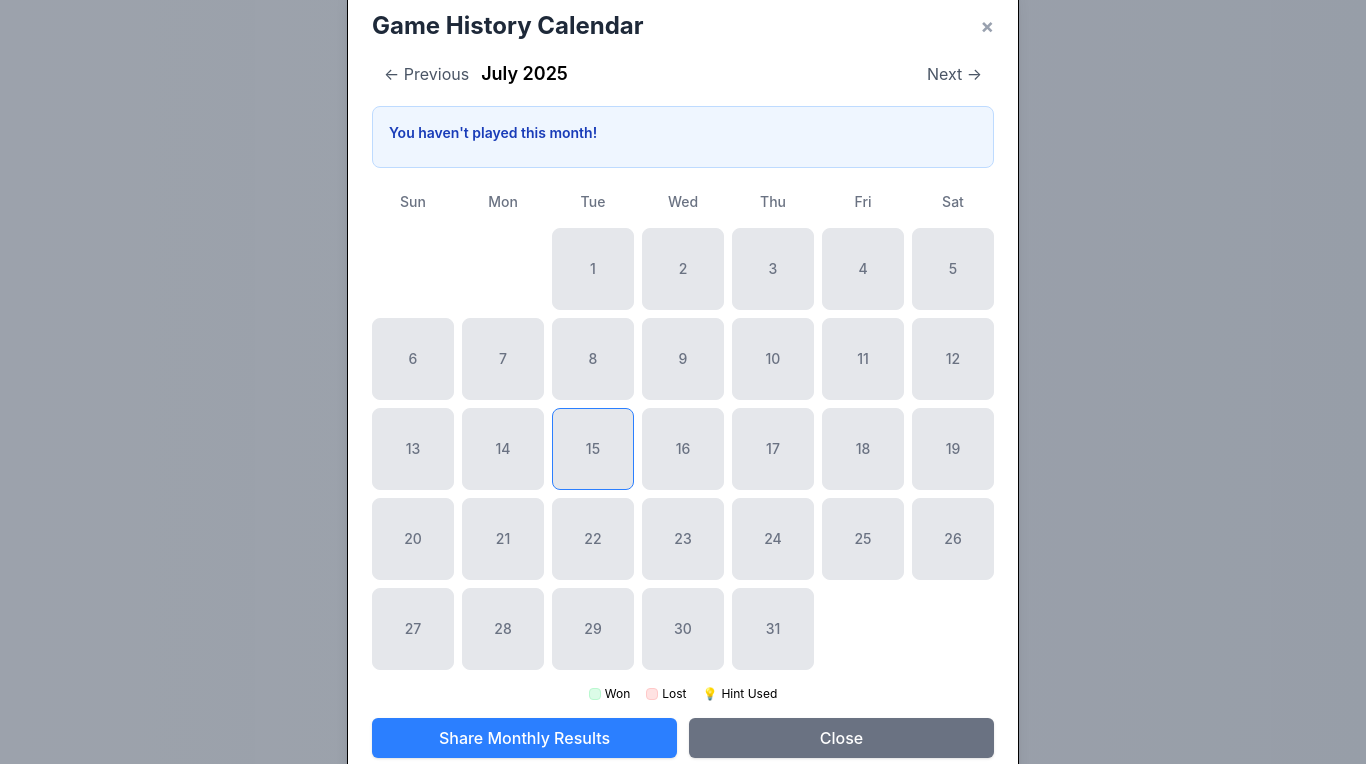
Test: GameHistoryCalendar › navigates between months
Expected: the heading "July 2025" is shown, [481, 63, 568, 84]
# Click previous month
Click the button "← Previous": [427, 74] box [372, 58, 481, 90]
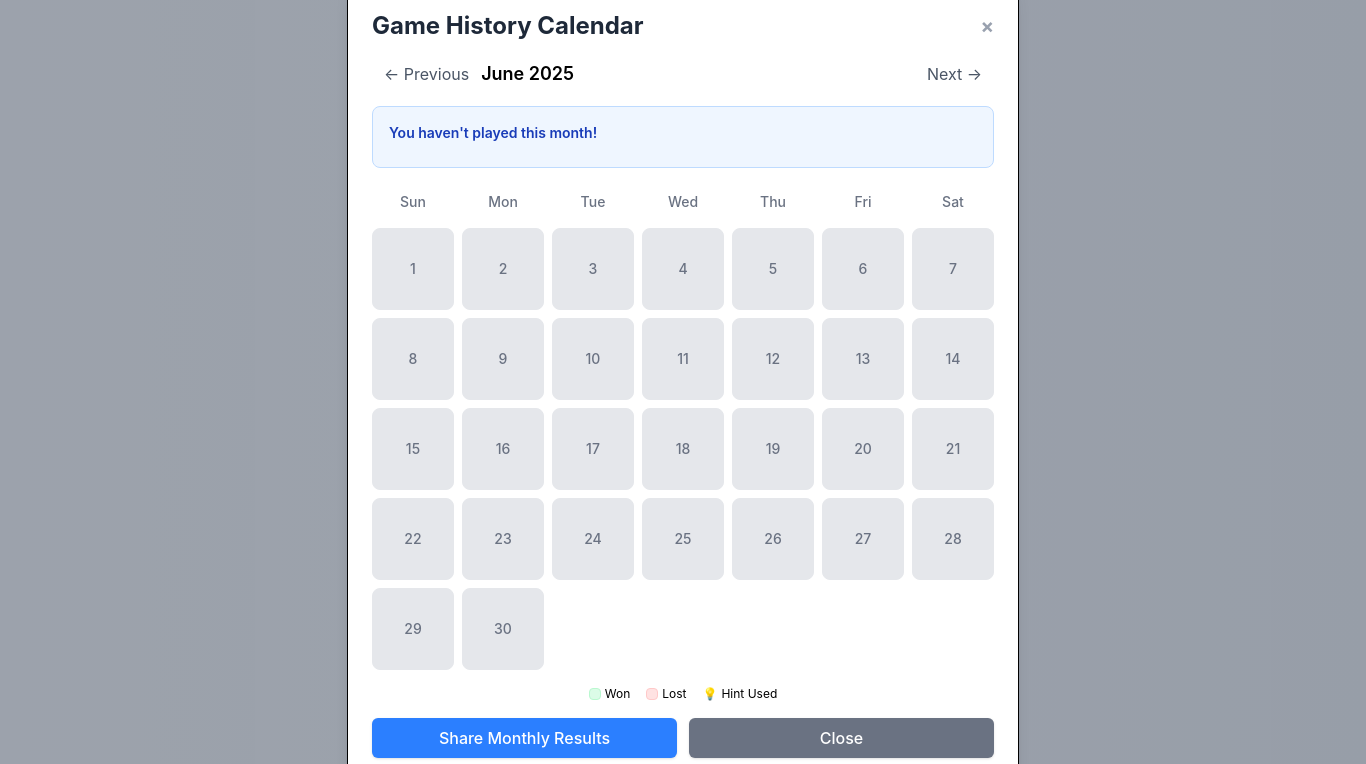
Result: the heading "June 2025" is shown at [481, 63, 574, 84]
# Click next month
Click the button "Next →": [954, 74] box [915, 58, 994, 90]
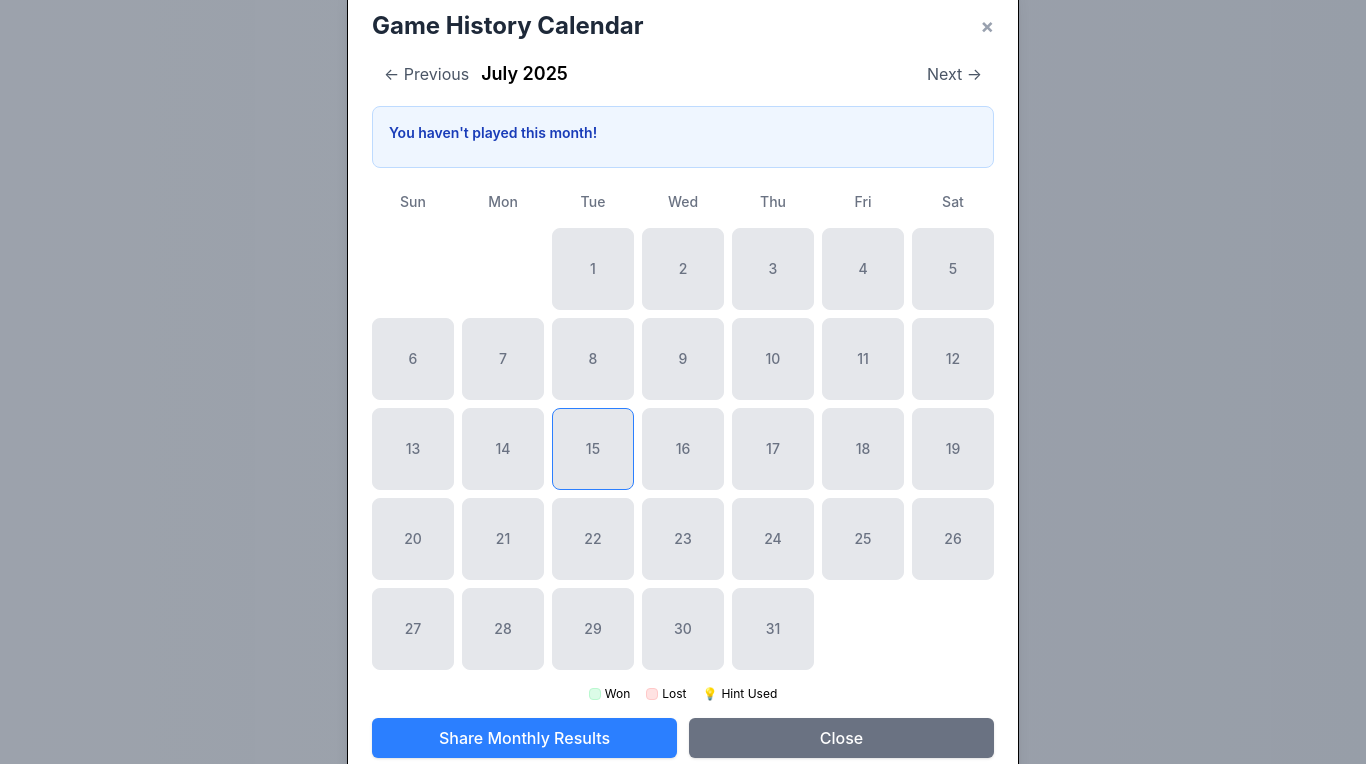
Click the button "Next →": [954, 74] box [915, 58, 994, 90]
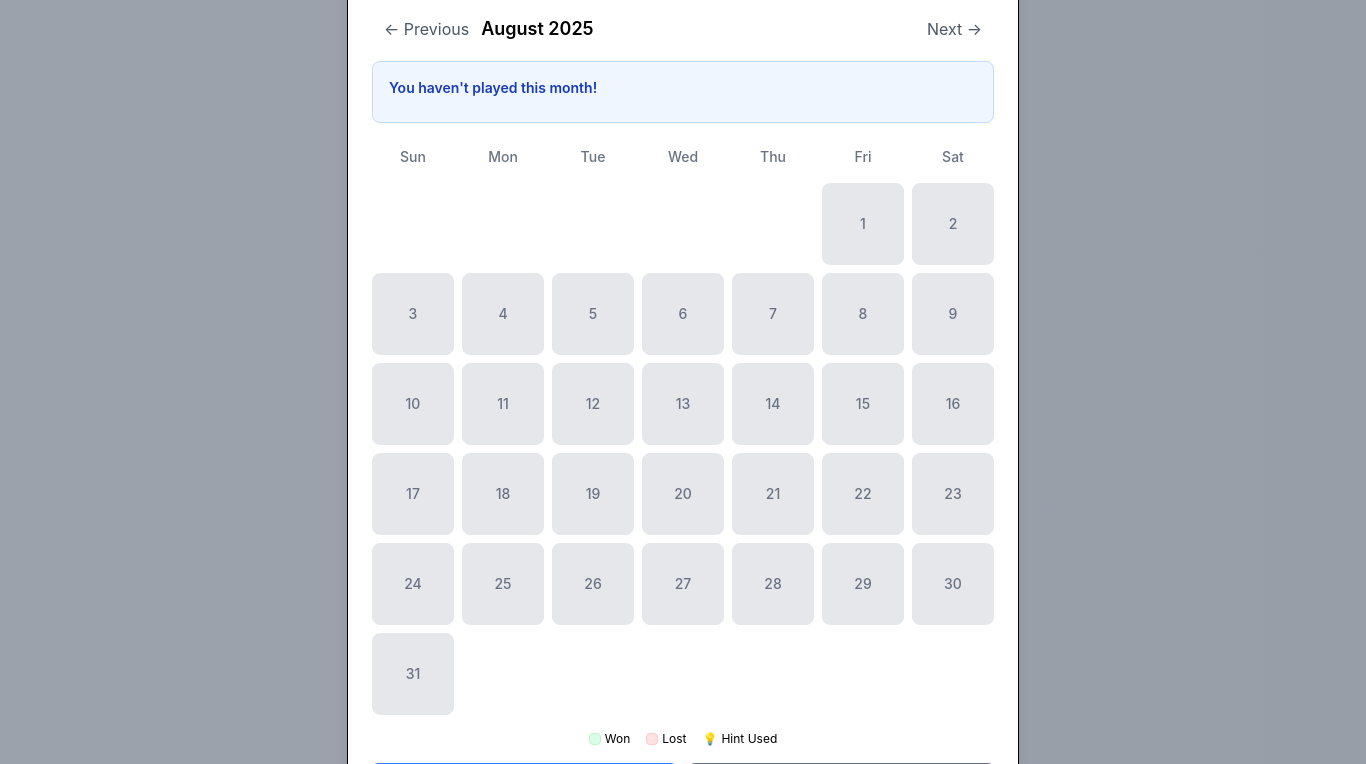
Result: the heading "August 2025" is shown at [481, 18, 594, 39]
